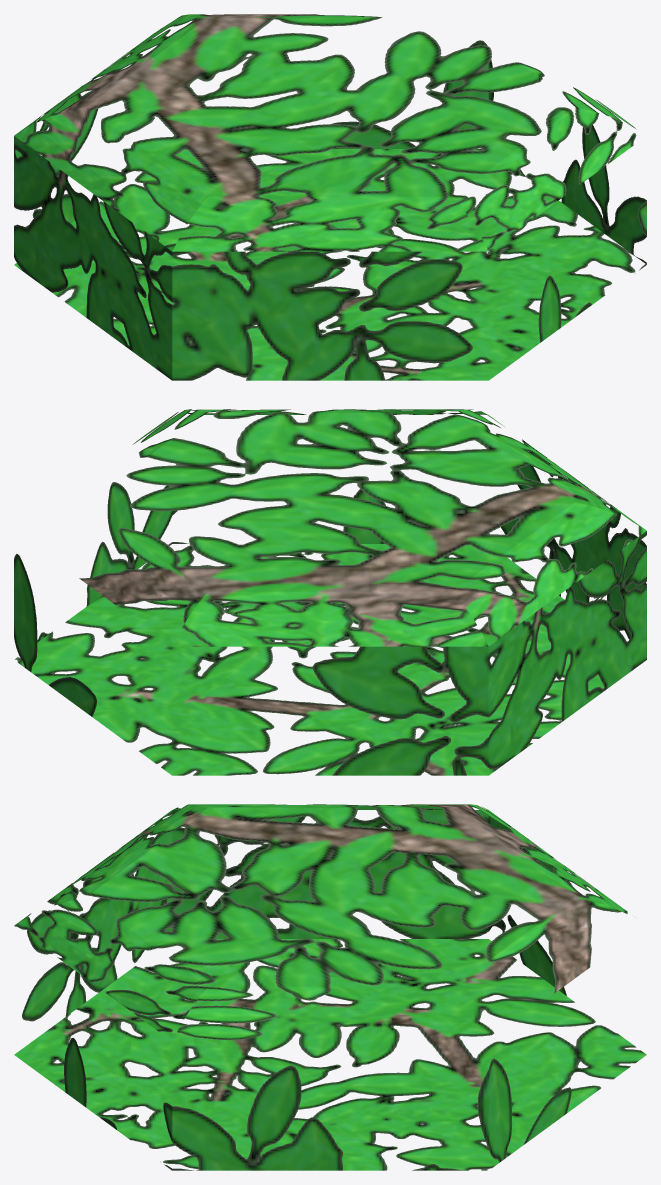
The model's file is DAEalphatest.dae.
The picture shows the model from 3 angles, top to bottom: view 1: azimuth 30°, elevation 25°; view 2: azimuth 150°, elevation 25°; view 3: azimuth 270°, elevation 25°; orthographic projection.
Parts seen in each view (by area): view 1: PolyLowRes; view 2: PolyLowRes; view 3: PolyLowRes.
Part boxes in pixels (<box>): PolyLowRes: <box>14,14,646,380</box>; PolyLowRes: <box>14,409,646,775</box>; PolyLowRes: <box>14,804,646,1170</box>.
Size of the model in its own units: 1.73 by 2 by 0.55.
1 material, 1 textured.
